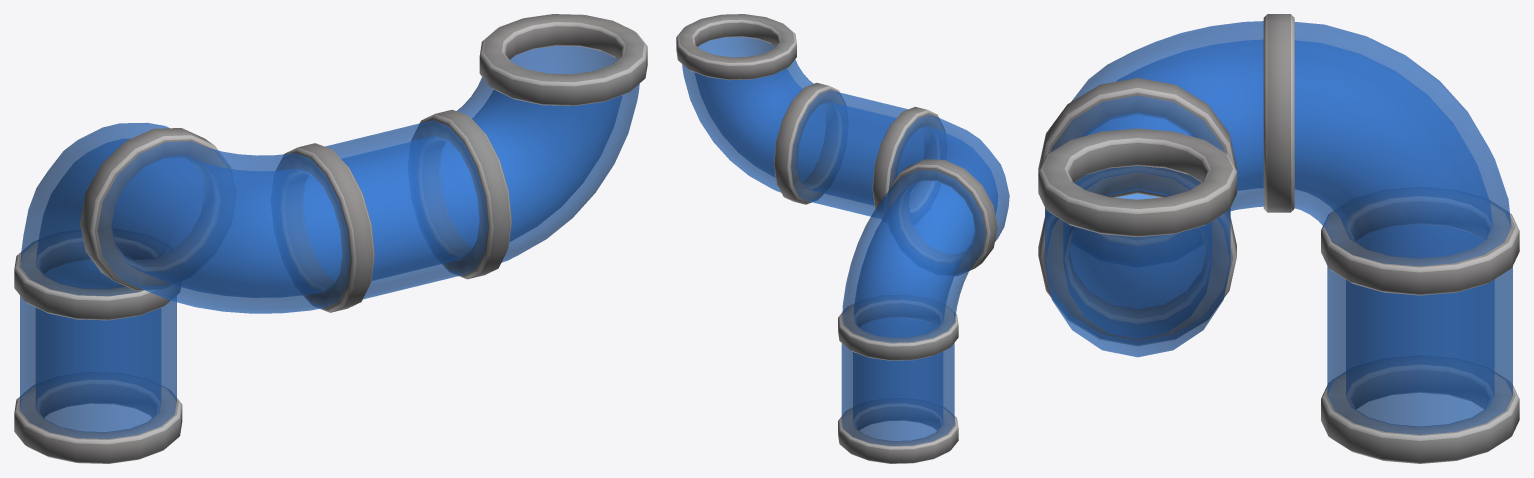
The picture shows the model from 3 angles, left to right: view 1: azimuth 30°, elevation 25°; view 2: azimuth 150°, elevation 25°; view 3: azimuth 270°, elevation 25°; orthographic projection. The views are drawn at different scales.
Visible parts, largest first — view 1: Tube1; view 2: Tube1; view 3: Tube1.
Part boxes in pixels (x1,y1,x2,y2): Tube1: [14, 14, 647, 463]; Tube1: [676, 14, 1009, 463]; Tube1: [1038, 14, 1519, 463].
Bounding box in the file's own units: 10.75 × 8.06 × 7.77.
2 materials, 2 textured.
